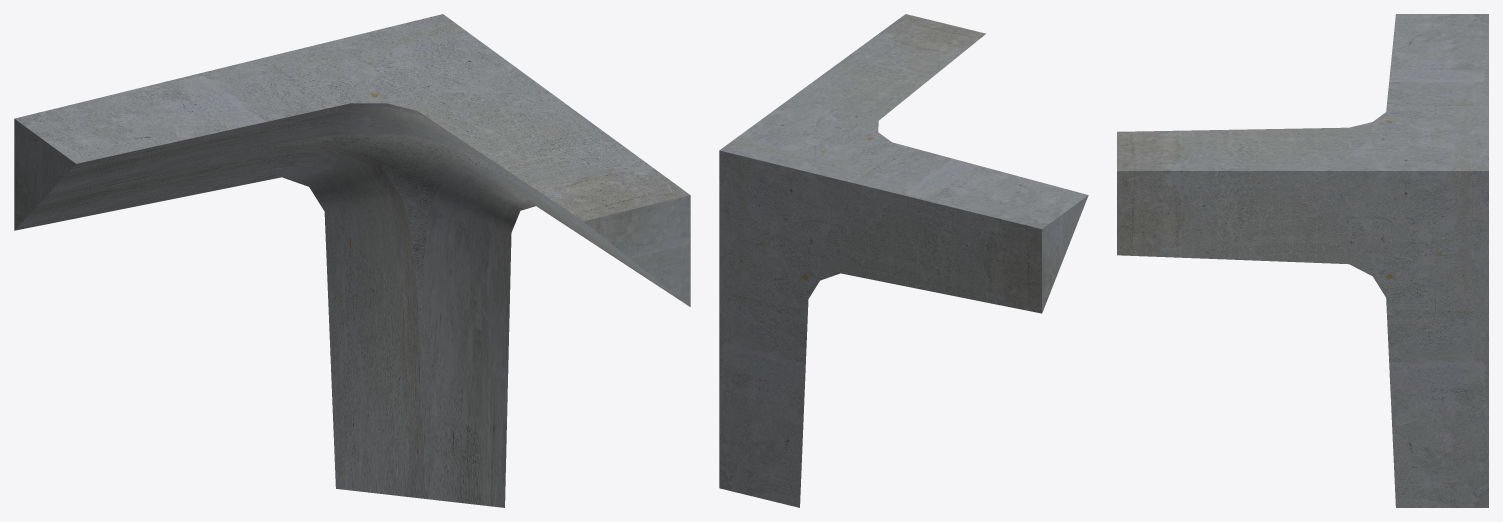
File: module_D2.fbx
The picture shows the model from 3 angles, left to right: view 1: azimuth 30°, elevation 25°; view 2: azimuth 150°, elevation 25°; view 3: azimuth 270°, elevation 25°; orthographic projection. The views are drawn at different scales.
Parts seen in each view (by area): view 1: modules; view 2: modules; view 3: modules.
Part boxes in pixels (box(x1,y1,x2,y2)): modules: box(14, 14, 690, 507); modules: box(719, 14, 1088, 507); modules: box(1117, 14, 1488, 507).
Size of the model in its own units: 1000 by 1000 by 1000.
1 material, 1 textured.
